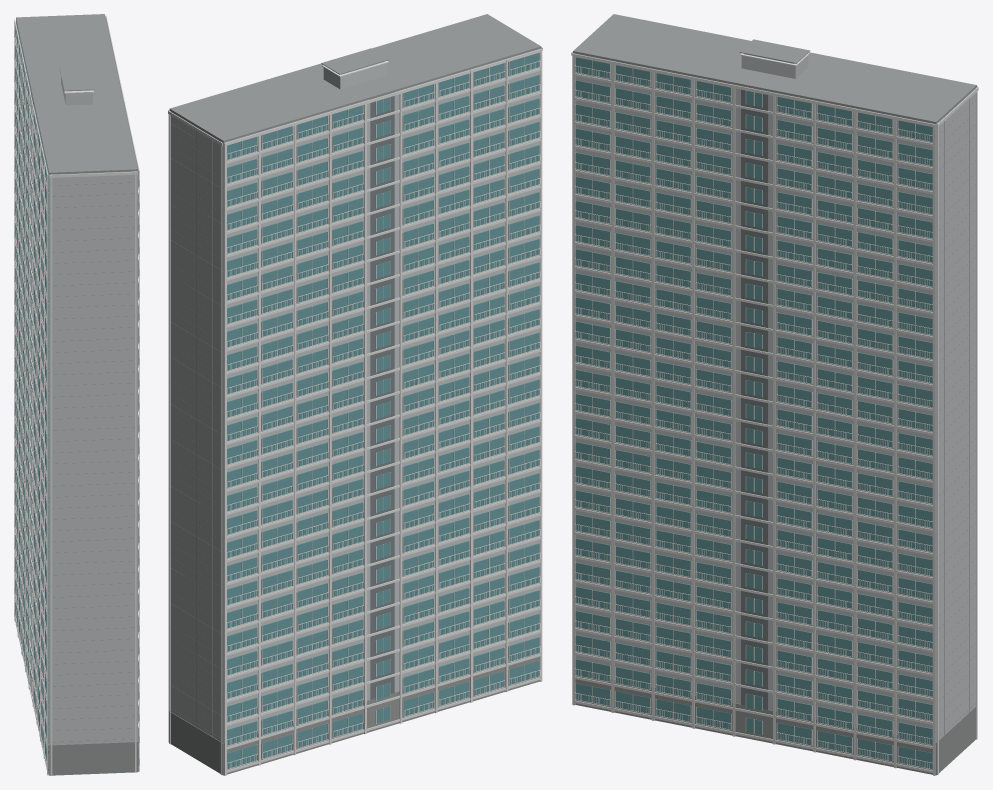
File: bespoke-jamsil-ricenz-236.glb
3 renders of one model, left to right at view 1: azimuth 30°, elevation 25°; view 2: azimuth 150°, elevation 25°; view 3: azimuth 270°, elevation 25°, orthographic. The views are drawn at different scales.
Parts seen in each view (by area): view 1: Ricenz236_editable_Ricenz236_light_grey_solid_wall, Ricenz236_editable_Ricenz236_modest_grey_flat_roof_caps, Ricenz236_white_exact_chunk_6, Ricenz236_editable_Ricenz236_turquoise_balcony_glazing, Ricenz236_white_exact_chunk_4, Ricenz236_white_exact_chunk_3, Ricenz236_white_exact_chunk_5, Ricenz236_editable_Ricenz236_muted_ground_wall, Ricenz236_white_exact_chunk_0; view 2: Ricenz236_editable_Ricenz236_turquoise_balcony_glazing, Ricenz236_editable_Ricenz236_light_grey_solid_wall, Ricenz236_white_exact_chunk_6, Ricenz236_white_exact_chunk_4, Ricenz236_white_exact_chunk_5, Ricenz236_white_exact_chunk_3, Ricenz236_editable_Ricenz236_modest_grey_flat_roof_caps, Ricenz236_editable_Ricenz236_narrow_charcoal_service_strips, Ricenz236_editable_Ricenz236_muted_ground_wall; view 3: Ricenz236_editable_Ricenz236_turquoise_balcony_glazing, Ricenz236_editable_Ricenz236_light_grey_solid_wall, Ricenz236_white_exact_chunk_3, Ricenz236_white_exact_chunk_1, Ricenz236_white_exact_chunk_2, Ricenz236_white_exact_chunk_0, Ricenz236_editable_Ricenz236_modest_grey_flat_roof_caps, Ricenz236_editable_Ricenz236_narrow_charcoal_service_strips, Ricenz236_editable_Ricenz236_muted_ground_wall.
Boxes of the visible parts, <box> form: Ricenz236_editable_Ricenz236_light_grey_solid_wall: <box>16,20,137,745</box>; Ricenz236_editable_Ricenz236_modest_grey_flat_roof_caps: <box>16,14,137,742</box>; Ricenz236_white_exact_chunk_6: <box>14,19,137,775</box>; Ricenz236_editable_Ricenz236_turquoise_balcony_glazing: <box>15,22,138,761</box>; Ricenz236_white_exact_chunk_4: <box>17,42,36,719</box>; Ricenz236_white_exact_chunk_3: <box>14,15,139,771</box>; Ricenz236_white_exact_chunk_5: <box>32,112,43,753</box>; Ricenz236_editable_Ricenz236_muted_ground_wall: <box>17,604,138,775</box>; Ricenz236_white_exact_chunk_0: <box>135,157,139,769</box>; Ricenz236_editable_Ricenz236_turquoise_balcony_glazing: <box>227,53,539,768</box>; Ricenz236_editable_Ricenz236_light_grey_solid_wall: <box>170,48,541,743</box>; Ricenz236_white_exact_chunk_6: <box>224,47,542,775</box>; Ricenz236_white_exact_chunk_4: <box>261,97,435,752</box>; Ricenz236_white_exact_chunk_5: <box>402,73,505,709</box>; Ricenz236_white_exact_chunk_3: <box>168,109,293,774</box>; Ricenz236_editable_Ricenz236_modest_grey_flat_roof_caps: <box>169,14,541,736</box>; Ricenz236_editable_Ricenz236_narrow_charcoal_service_strips: <box>370,92,394,699</box>; Ricenz236_editable_Ricenz236_muted_ground_wall: <box>169,653,539,775</box>; Ricenz236_editable_Ricenz236_turquoise_balcony_glazing: <box>575,57,932,768</box>; Ricenz236_editable_Ricenz236_light_grey_solid_wall: <box>573,53,976,742</box>; Ricenz236_white_exact_chunk_3: <box>572,53,978,775</box>; Ricenz236_white_exact_chunk_1: <box>654,73,813,749</box>; Ricenz236_white_exact_chunk_2: <box>775,97,932,772</box>; Ricenz236_white_exact_chunk_0: <box>575,57,691,725</box>; Ricenz236_editable_Ricenz236_modest_grey_flat_roof_caps: <box>573,14,976,736</box>; Ricenz236_editable_Ricenz236_narrow_charcoal_service_strips: <box>741,86,768,709</box>; Ricenz236_editable_Ricenz236_muted_ground_wall: <box>575,676,975,775</box>.
Bounding box in the file's own units: 31.44 × 89.62 × 49.36.
